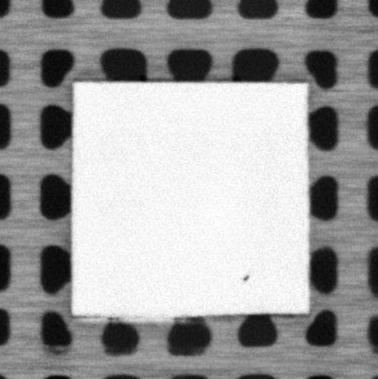DIE_INK: (241, 272, 250, 282)
